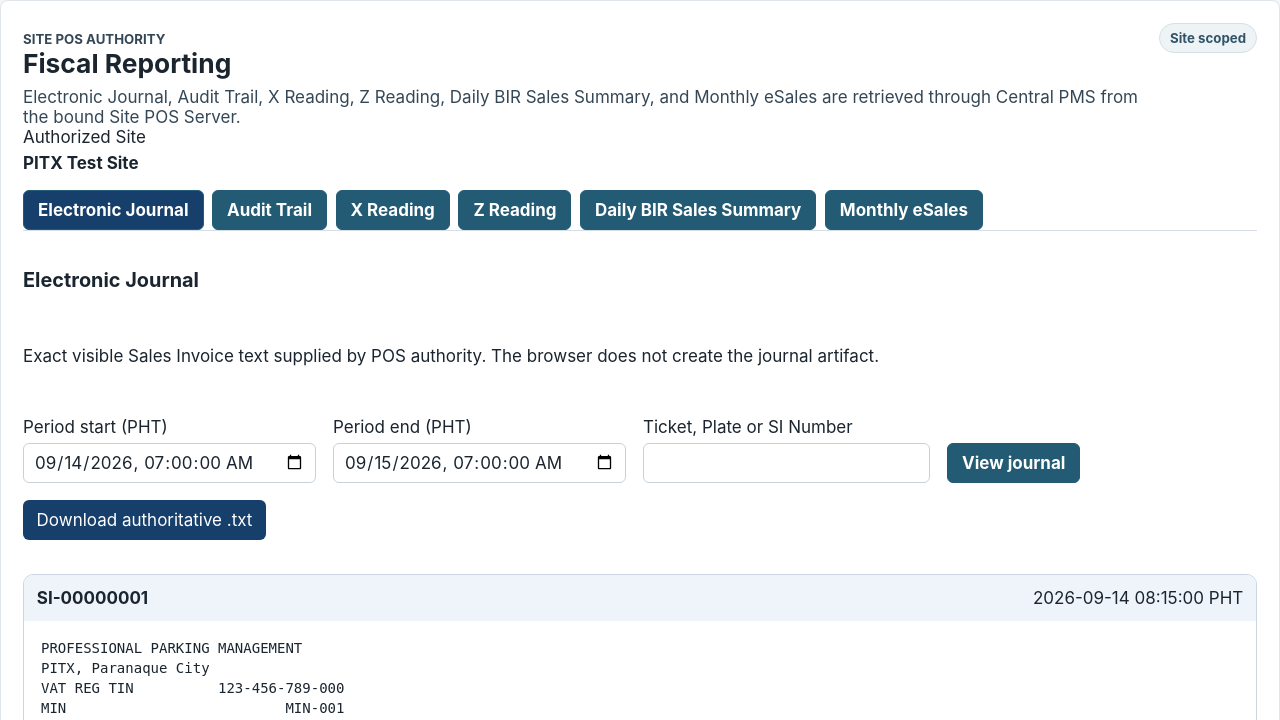
Test: Operator Console fiscal reporting › shows Z Reading business date, period boundaries, and generated time in PHT
Click the tab "Z Reading" at (515, 210), box [458,190,572,230]
(page scrolled)
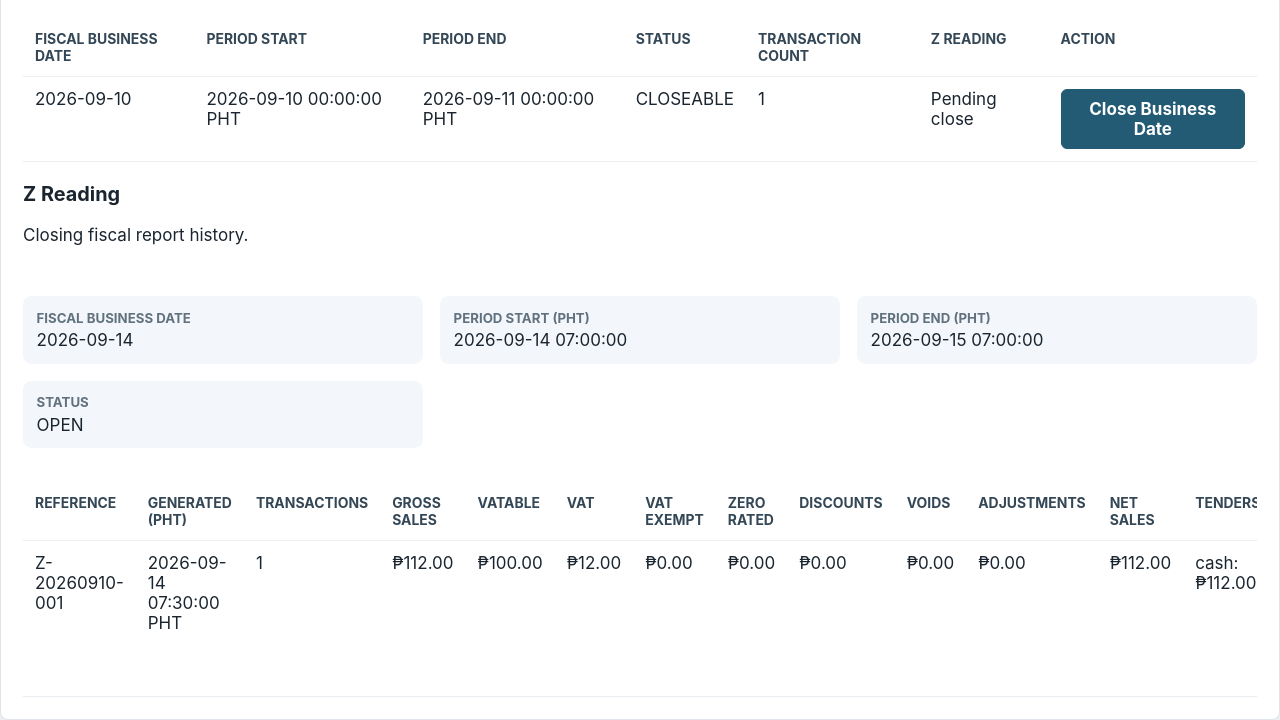
Now the text "Fiscal Business Date" is shown, box [37,310,191,326]
Now the text "2026-09-14" is shown, box [37,330,133,350]
Now the text "2026-09-14 07:00:00" is shown, box [454,330,627,350]
